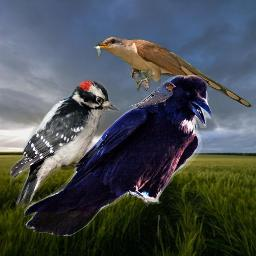Crow: (24, 75, 211, 236)
Cuckoo: (91, 36, 253, 108)
Swallow: (129, 81, 176, 108)
Woodpecker: (10, 81, 123, 210)
